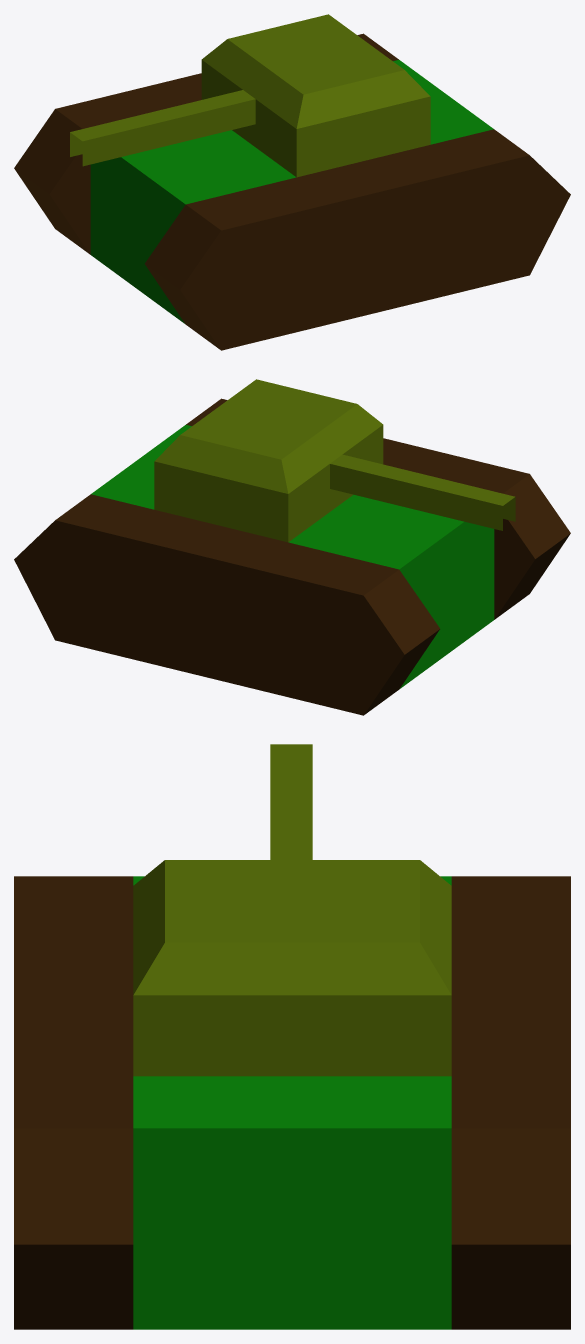
Rendered from tank_1_1.glb.
3 views of the same model, one above another, from view 1: azimuth 30°, elevation 25°; view 2: azimuth 150°, elevation 25°; view 3: azimuth 270°, elevation 25° (orthographic). The views are drawn at different scales.
Parts seen in each view (by area): view 1: tank_green_1; view 2: tank_green_1; view 3: tank_green_1.
Part boxes in pixels (bbox=[...]): tank_green_1: bbox=[14, 14, 570, 350]; tank_green_1: bbox=[14, 379, 570, 715]; tank_green_1: bbox=[14, 744, 570, 1329].
Size of the model in its own units: 2 by 0.8918 by 1.4.
Materials: 1 (1 with a texture image).
